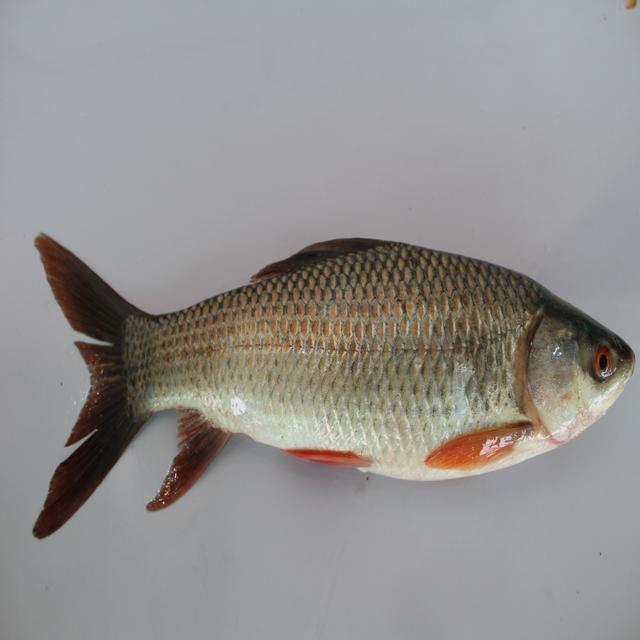Rohu: (12, 189, 636, 545)
